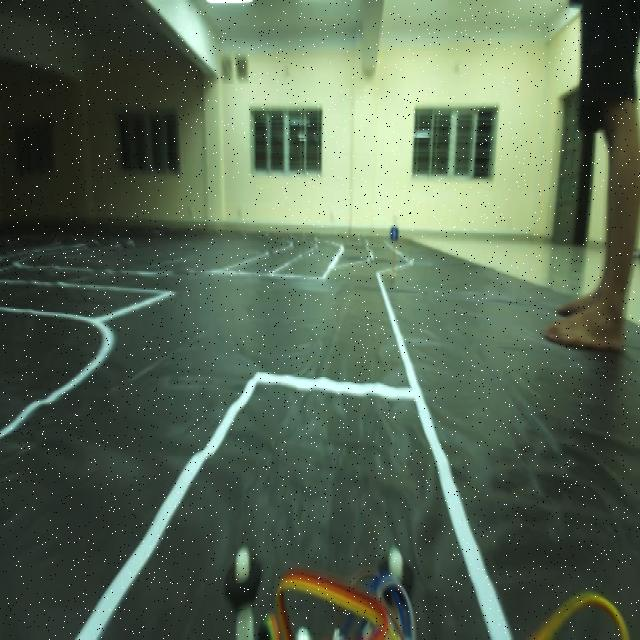onewayroad: (388, 220, 402, 246)
